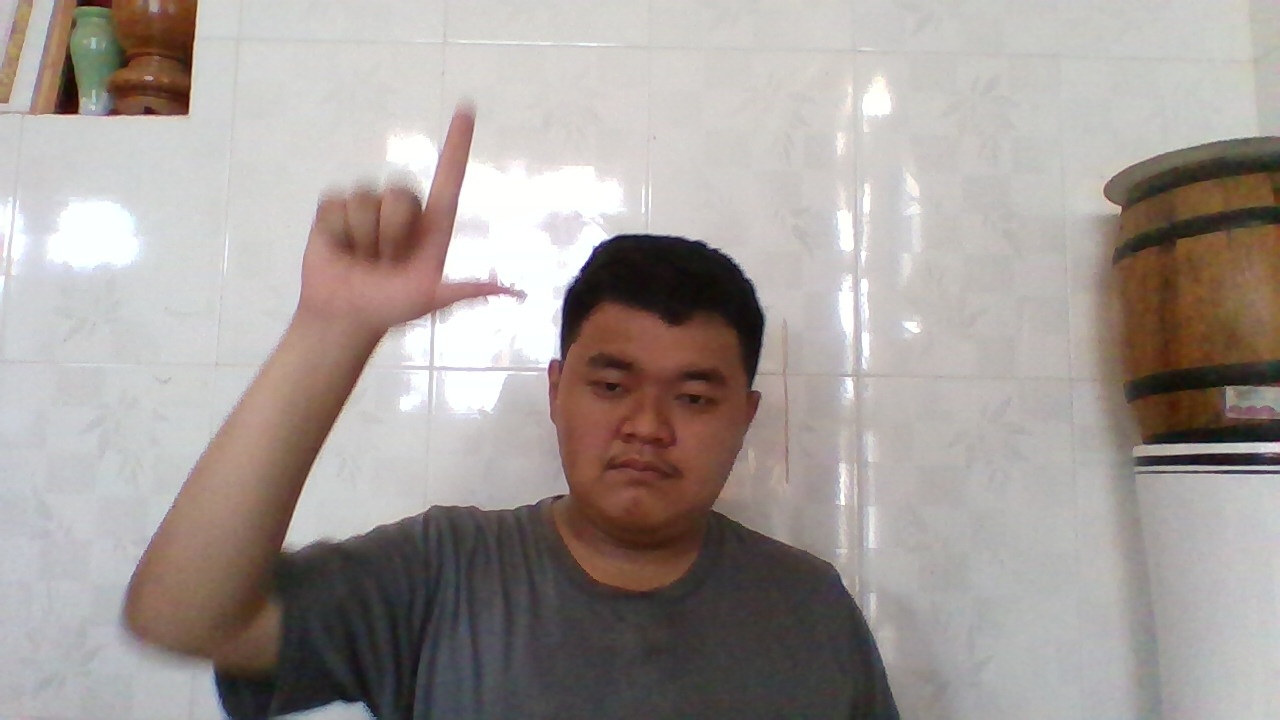L: (314, 101, 524, 329)
